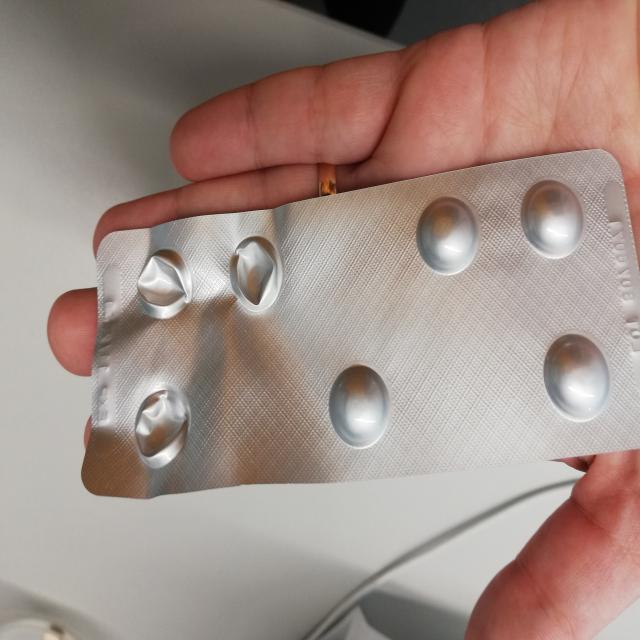Empty: (128, 386, 195, 472), (227, 230, 287, 314), (134, 246, 196, 323)
Pill: (538, 327, 615, 426), (324, 360, 394, 453), (413, 192, 484, 280), (516, 174, 588, 260)
